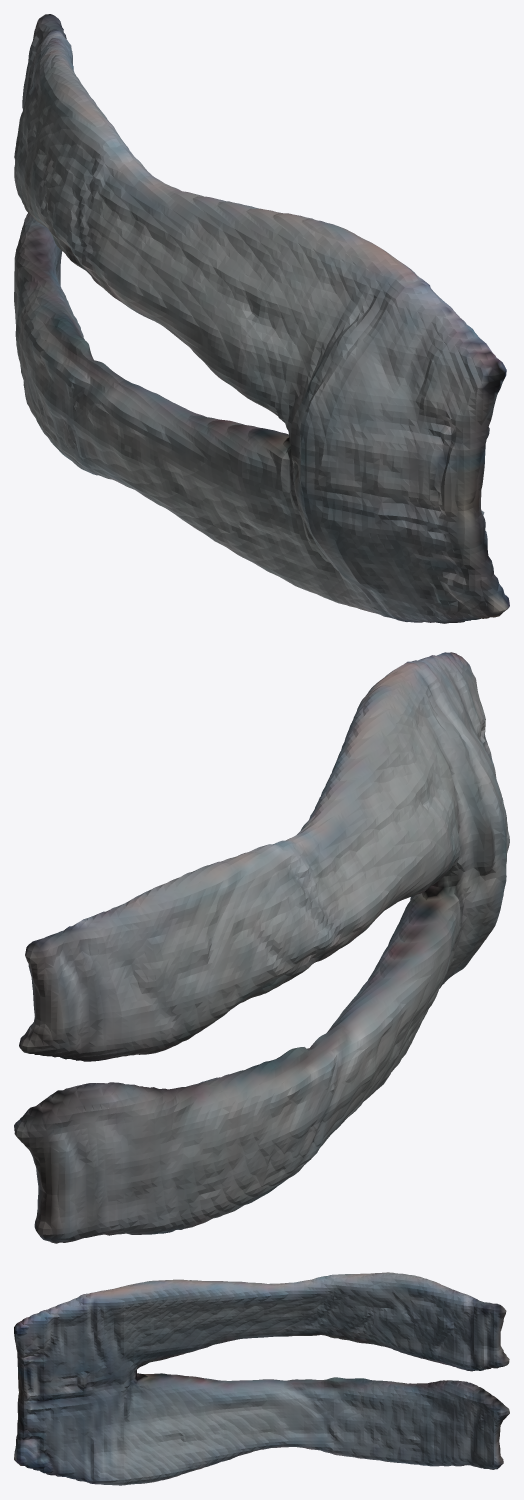
3 views of the same model, one above another, from view 1: azimuth 30°, elevation 25°; view 2: azimuth 150°, elevation 25°; view 3: azimuth 270°, elevation 25° (orthographic). The views are drawn at different scales.
Size of the model in its own units: 0.2142 by 0.4541 by 1.02.
